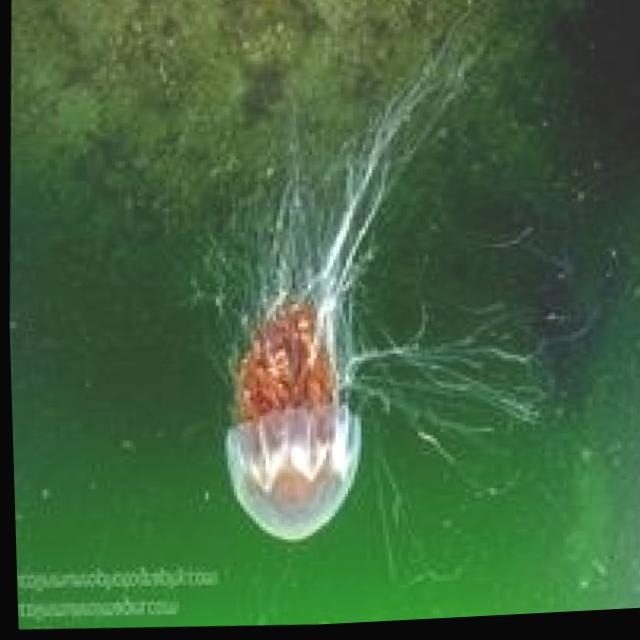Box-jellyfish: (214, 289, 369, 554)
